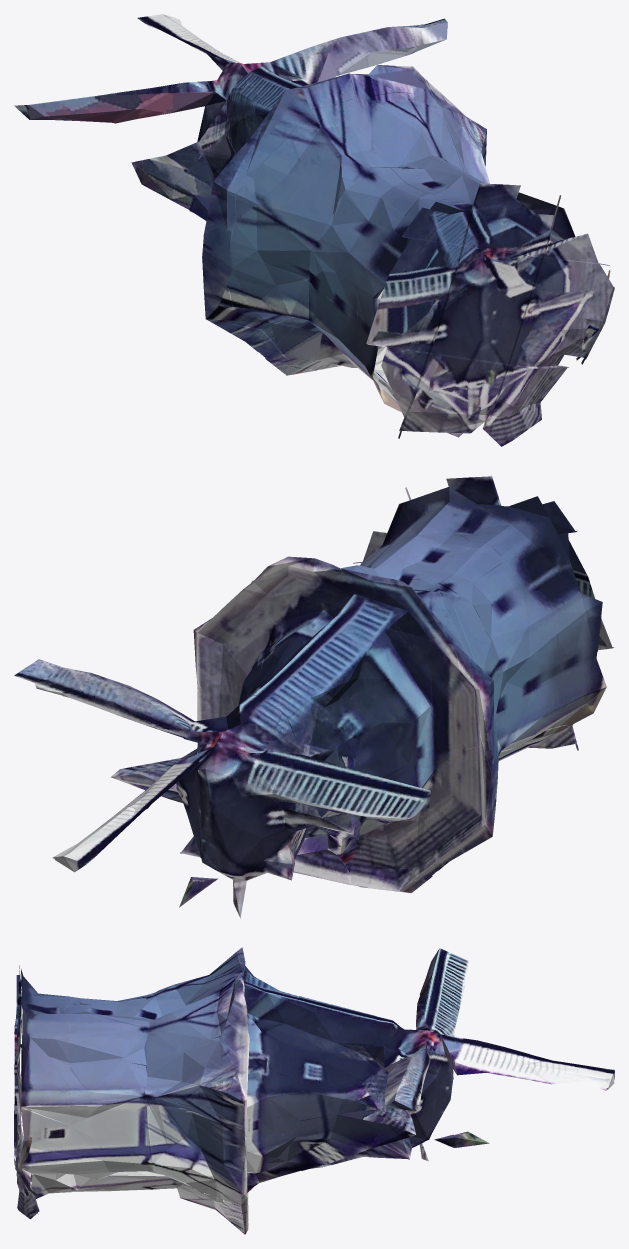
Rendered from windmill.gltf.
The picture shows the model from 3 angles, top to bottom: view 1: azimuth 30°, elevation 25°; view 2: azimuth 150°, elevation 25°; view 3: azimuth 270°, elevation 25°; orthographic projection. The views are drawn at different scales.
Parts seen in each view (by area): view 1: BuildingMesh-00105; view 2: BuildingMesh-00105; view 3: BuildingMesh-00105.
Boxes of the visible parts, x1,y1,x2,y2 form: BuildingMesh-00105: [14, 14, 614, 446]; BuildingMesh-00105: [14, 475, 614, 918]; BuildingMesh-00105: [14, 947, 614, 1234].
Bounding box in the file's own units: 1.94 × 1.36 × 3.03.
23 materials, 23 textured.
